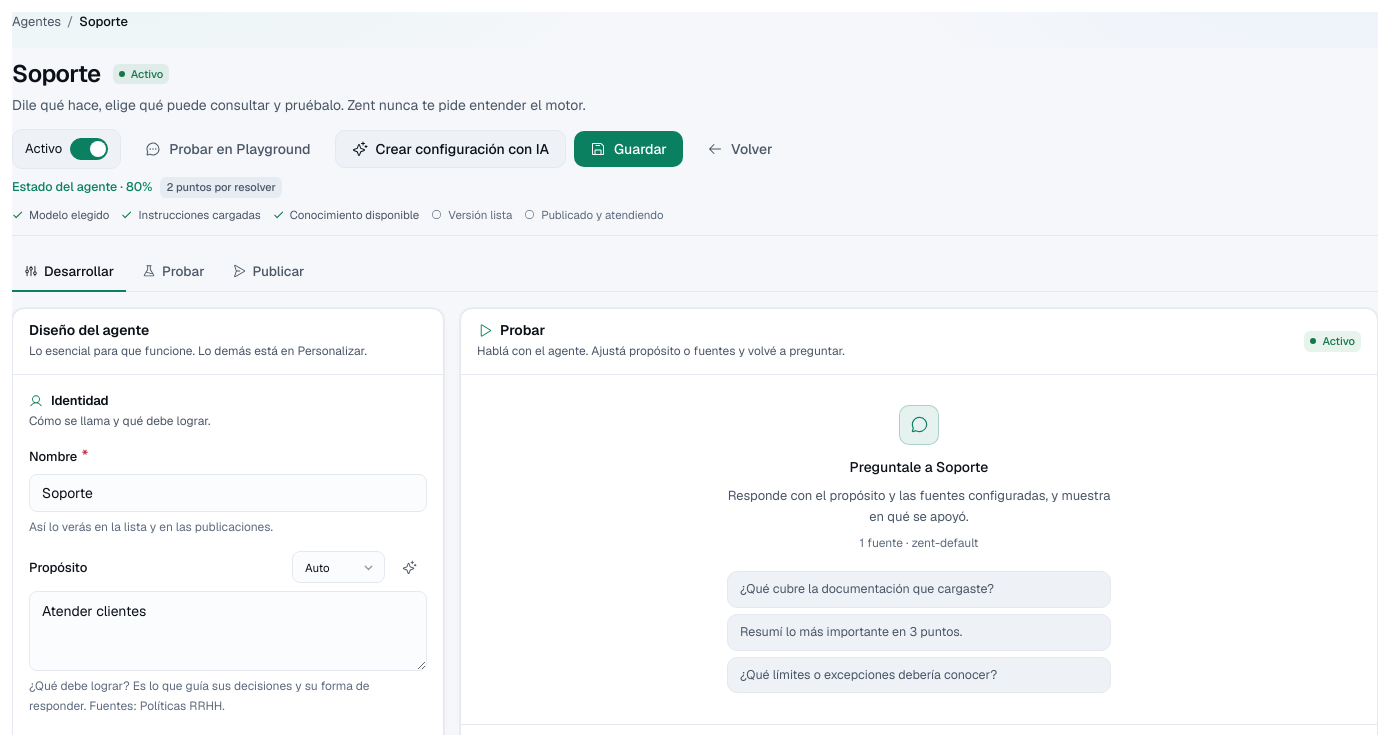
it: AgentStudio · etapas y URLs › navega entre Desarrollar, Probar y Publicar con tabs accesibles
Expected: the element named "Etapas del agente" is shown, left=12, top=252, right=1377, bottom=292
Click the tab "Publicar" at (268, 272), box left=220, top=252, right=316, bottom=292
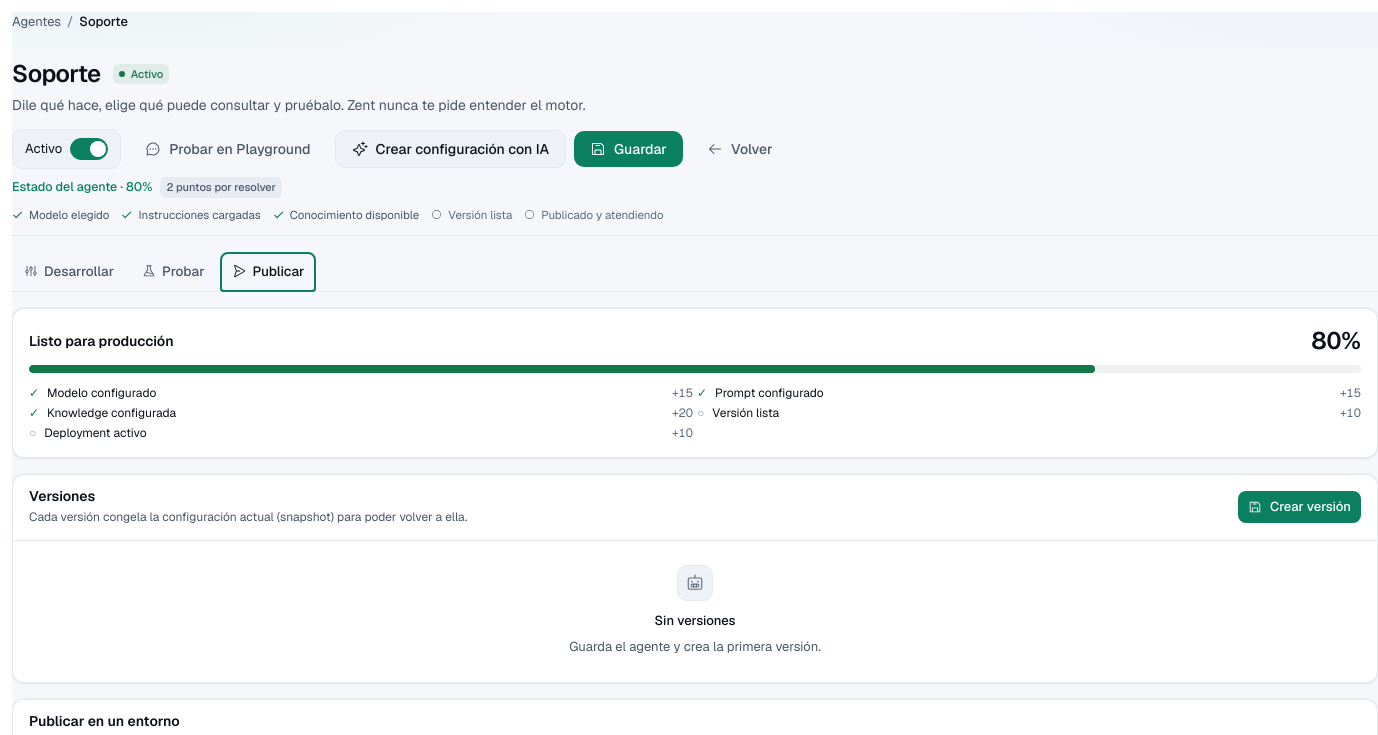
Expected: the text "Listo para producción" is shown, left=29, top=331, right=174, bottom=351
